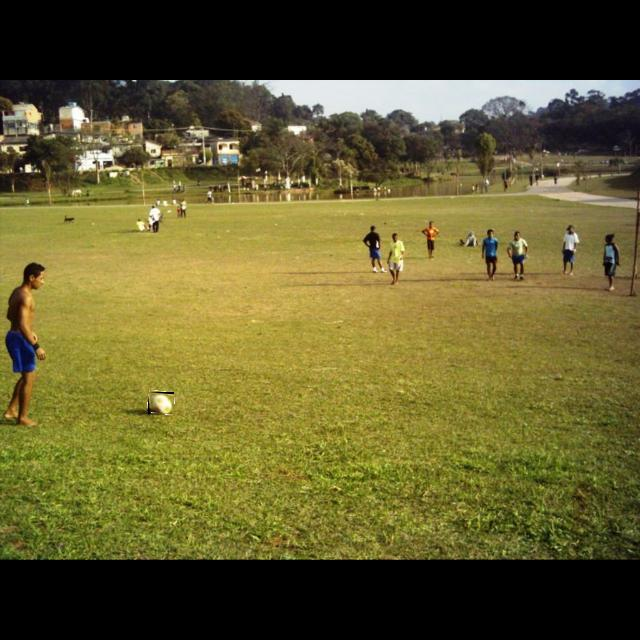Football: (148, 392, 174, 414)
